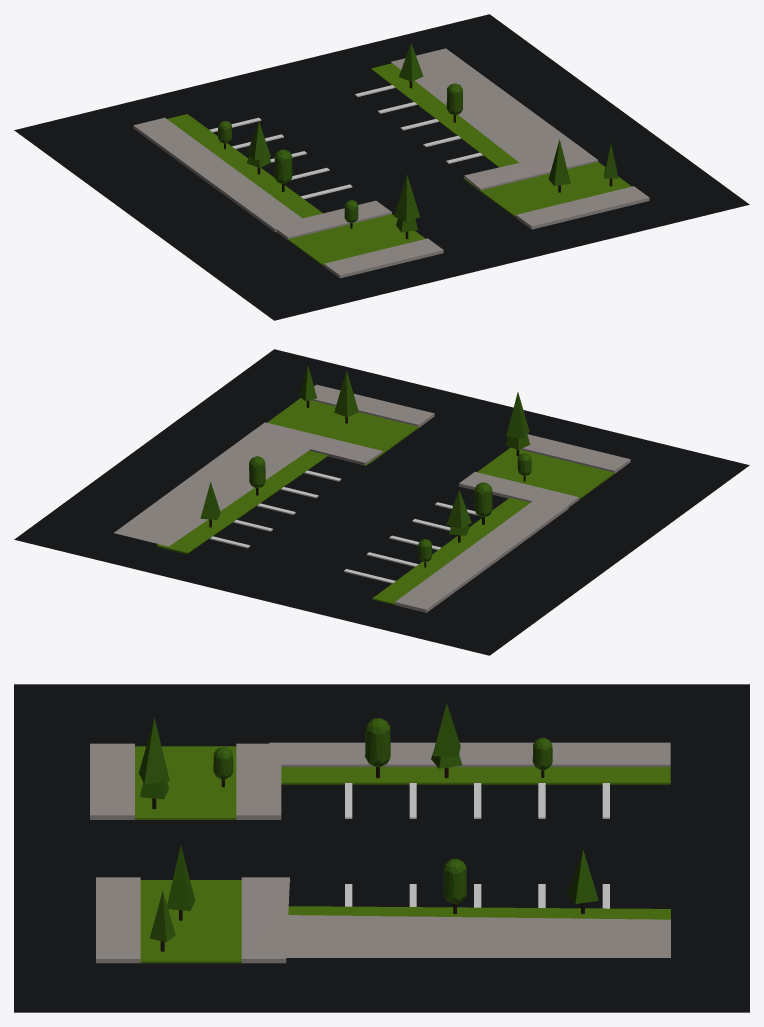
The model's file is parkinglot.obj.
The picture shows the model from 3 angles, top to bottom: view 1: azimuth 30°, elevation 25°; view 2: azimuth 150°, elevation 25°; view 3: azimuth 270°, elevation 25°; orthographic projection. The views are drawn at different scales.
Visible parts, largest first — view 1: Plane_Plane.008, Cube.905_Cube.3610, Cube.030_Cube.042, Cube.024_Cube.041, Cube.000_Cube.007, Cone.005_Cone.031, Icosphere.164_Icosphere.194, Cone.003_Cone.029, Cone.001_Cone.027, Cone.002_Cone.028; view 2: Plane_Plane.008, Cube.905_Cube.3610, Cube.030_Cube.042, Cube.000_Cube.007, Cube.024_Cube.041, Cone.003_Cone.029, Cone.005_Cone.031, Icosphere.164_Icosphere.194, Cone.002_Cone.028; view 3: Plane_Plane.008, Cube.905_Cube.3610, Cube.030_Cube.042, Cube.000_Cube.007, Icosphere.164_Icosphere.194, Cone.005_Cone.031, Cone.003_Cone.029, Icosphere.163_Icosphere.193, Cube.024_Cube.041, Cone.001_Cone.027, Cone.002_Cone.028, Cone.006_Cone.032 (+2 smaller).
Boxes of the visible parts, x1,y1,x2,y2 form: Plane_Plane.008: [14, 14, 749, 320]; Cube.905_Cube.3610: [133, 48, 649, 232]; Cube.030_Cube.042: [276, 200, 443, 278]; Cube.024_Cube.041: [355, 85, 482, 163]; Cube.000_Cube.007: [209, 117, 352, 198]; Cone.005_Cone.031: [394, 174, 419, 222]; Icosphere.164_Icosphere.194: [274, 149, 292, 184]; Cone.003_Cone.029: [548, 139, 570, 185]; Cone.001_Cone.027: [399, 43, 423, 81]; Cone.002_Cone.028: [247, 121, 270, 160]; Plane_Plane.008: [14, 349, 749, 655]; Cube.905_Cube.3610: [114, 384, 568, 612]; Cube.030_Cube.042: [459, 434, 630, 507]; Cube.000_Cube.007: [344, 502, 478, 583]; Cube.024_Cube.041: [210, 470, 341, 548]; Cone.003_Cone.029: [334, 370, 358, 417]; Cone.005_Cone.031: [506, 392, 529, 438]; Icosphere.164_Icosphere.194: [474, 482, 492, 517]; Cone.002_Cone.028: [446, 490, 471, 528]; Plane_Plane.008: [14, 684, 749, 1012]; Cube.905_Cube.3610: [96, 742, 670, 963]; Cube.030_Cube.042: [90, 743, 281, 819]; Cube.000_Cube.007: [345, 783, 609, 818]; Icosphere.164_Icosphere.194: [365, 718, 390, 767]; Cone.005_Cone.031: [139, 718, 169, 783]; Cone.003_Cone.029: [167, 845, 195, 910]; Icosphere.163_Icosphere.193: [443, 858, 466, 903]; Cube.024_Cube.041: [345, 884, 609, 908]; Cone.001_Cone.027: [567, 849, 598, 903]; Cone.002_Cone.028: [432, 703, 460, 757]; Cone.006_Cone.032: [150, 891, 175, 942].
Bounding box in the file's own units: 5.23 × 0.7169 × 4.96.
